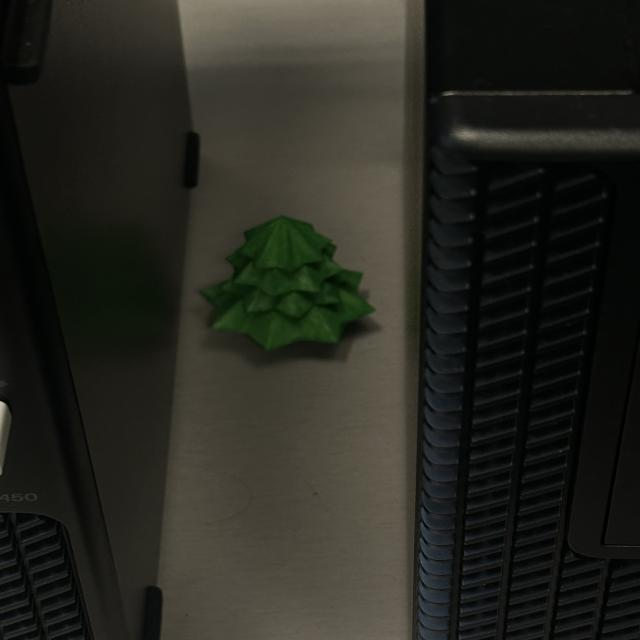tree: (197, 212, 377, 353)
